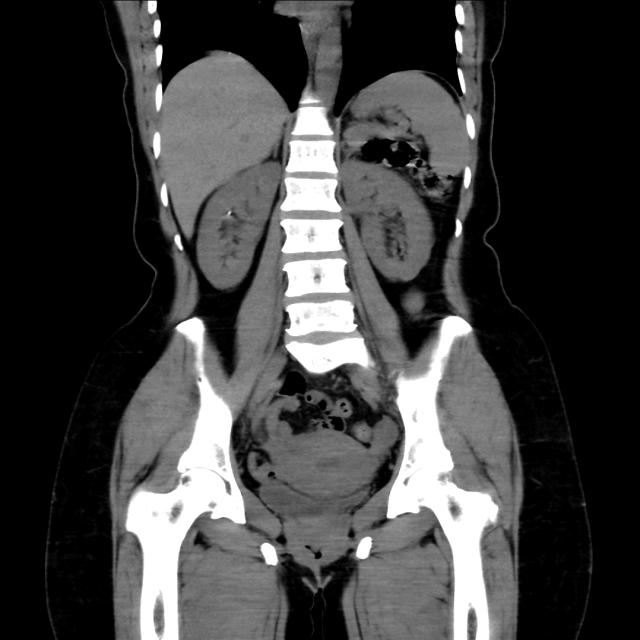kidneystone: (226, 210, 235, 218)
